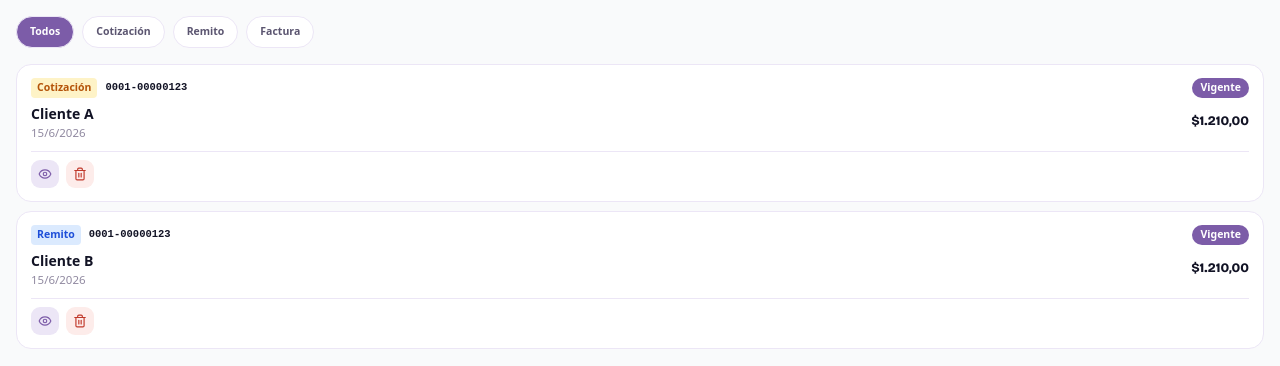
Scenario: MobileComprobantes — chip filter › filters the list to only receipts when "Remito" chip is clicked
The width and height of the screenshot is (1280, 366).
Expected: the text "Cliente A" is shown, top-left (31, 104), bottom-right (94, 122)
Click the button "Remito": click(205, 32) top-left (173, 16), bottom-right (238, 48)
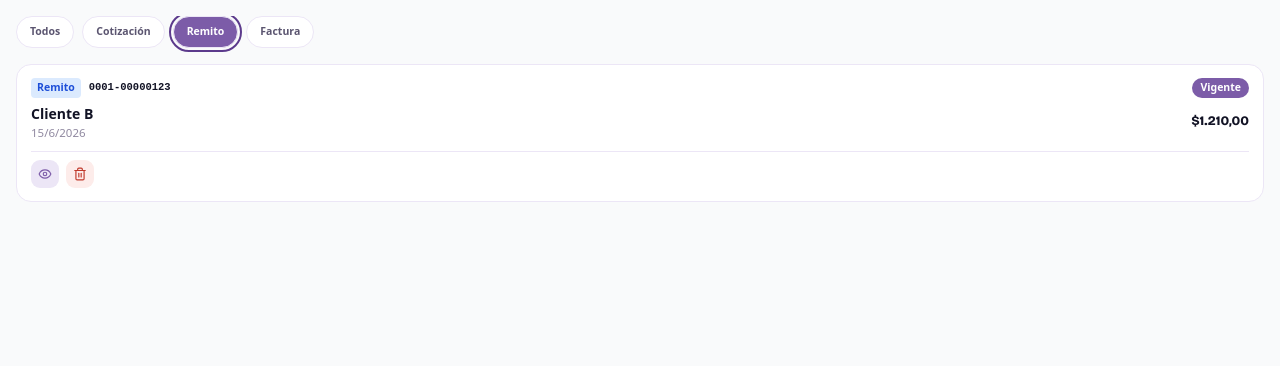
Expected: the text "Cliente B" is shown, top-left (31, 104), bottom-right (93, 122)
Expected: the text "Cliente A" is gone
